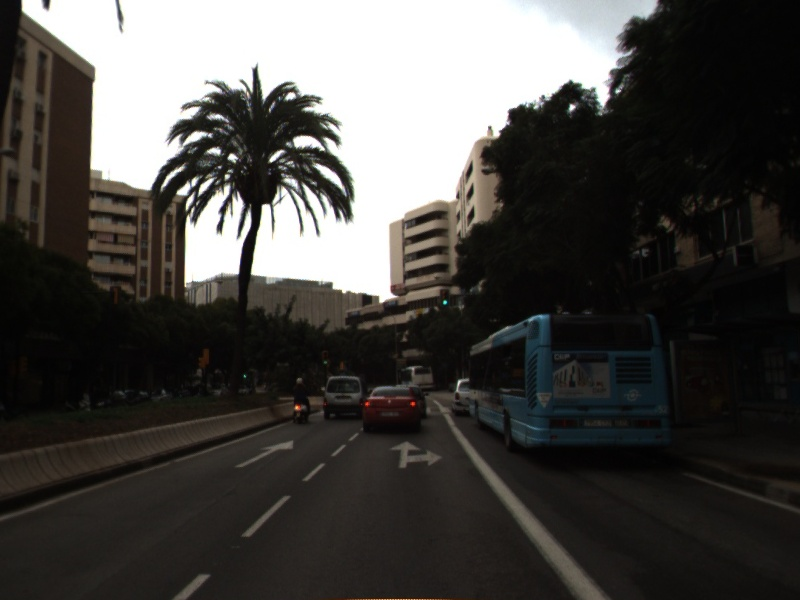STRAIGHT: (232, 438, 295, 469)
STRAIGHT_RIGHT: (387, 438, 445, 470)
